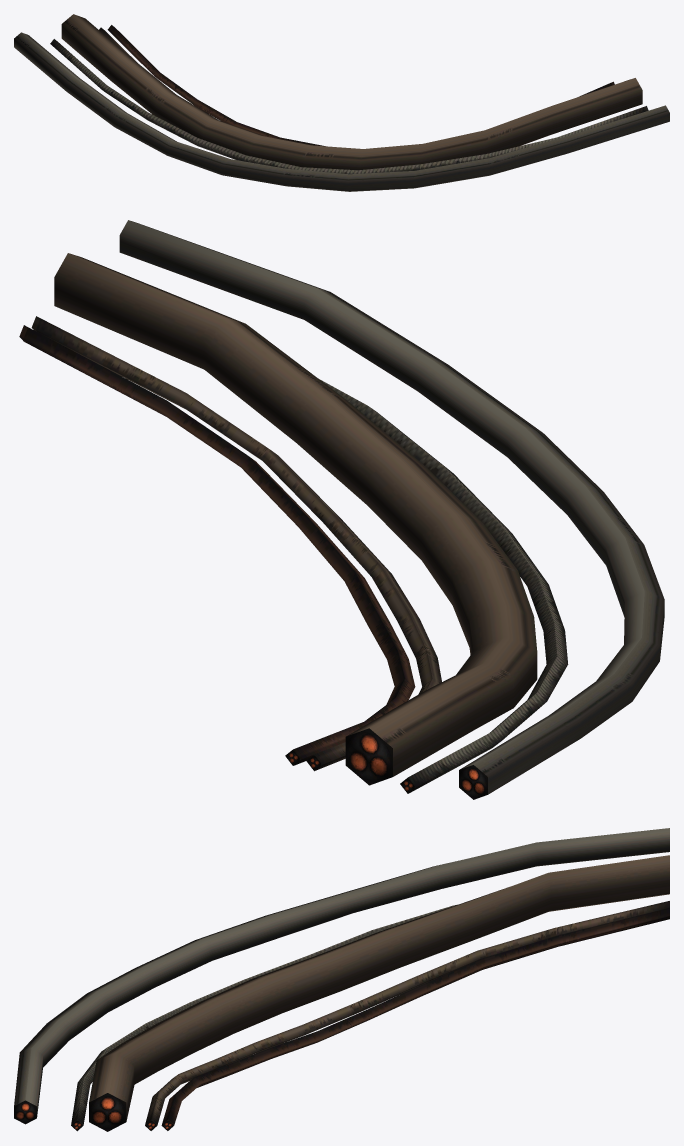
Rendered from multi_cable_hanging_rightturn.dae.
3 views of the same model, one above another, from view 1: azimuth 30°, elevation 25°; view 2: azimuth 150°, elevation 25°; view 3: azimuth 270°, elevation 25° (orthographic). The views are drawn at different scales.
Parts seen in each view (by area): view 1: polySurface16; view 2: polySurface16; view 3: polySurface16.
Boxes of the visible parts, x1=… form: polySurface16: x1=14, y1=14, x2=669, y2=191; polySurface16: x1=19, y1=220, x2=664, y2=799; polySurface16: x1=14, y1=828, x2=669, y2=1131.
Size of the model in its own units: 2.28 by 0.4008 by 2.28.
